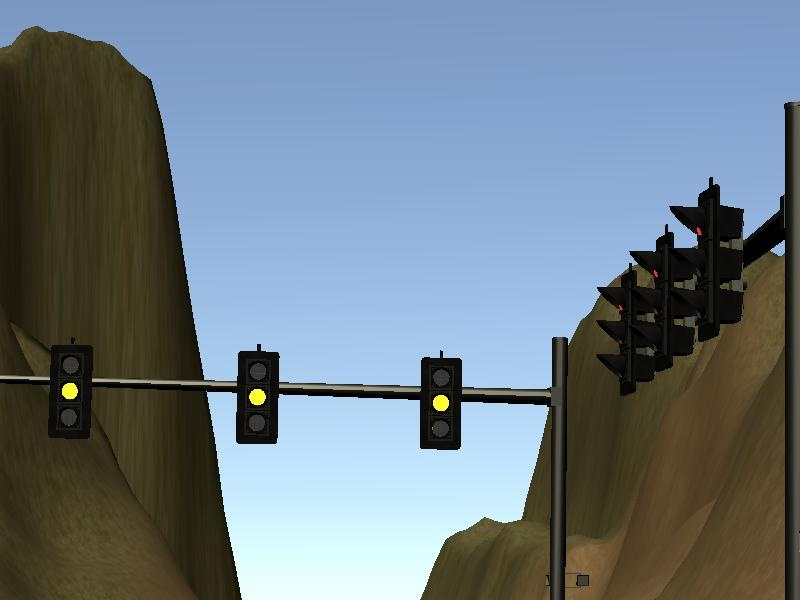YELLOW: (233, 349, 280, 447), (415, 354, 462, 452), (46, 340, 93, 438)
